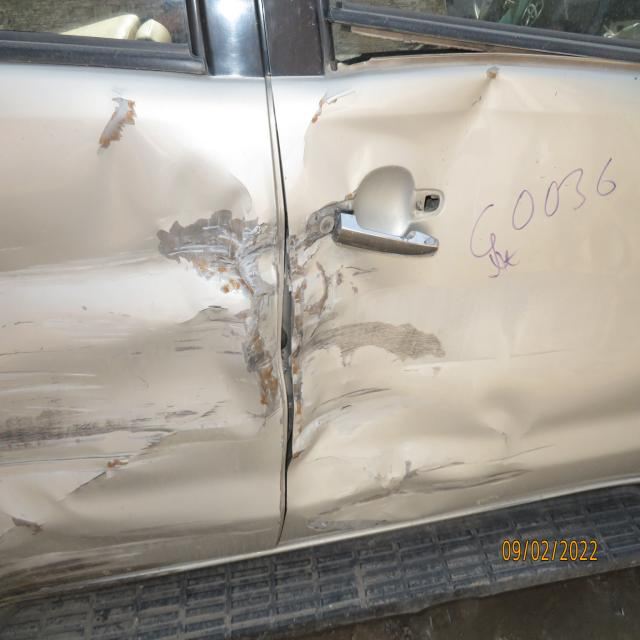damage: (0, 71, 281, 600), (274, 54, 560, 507)
